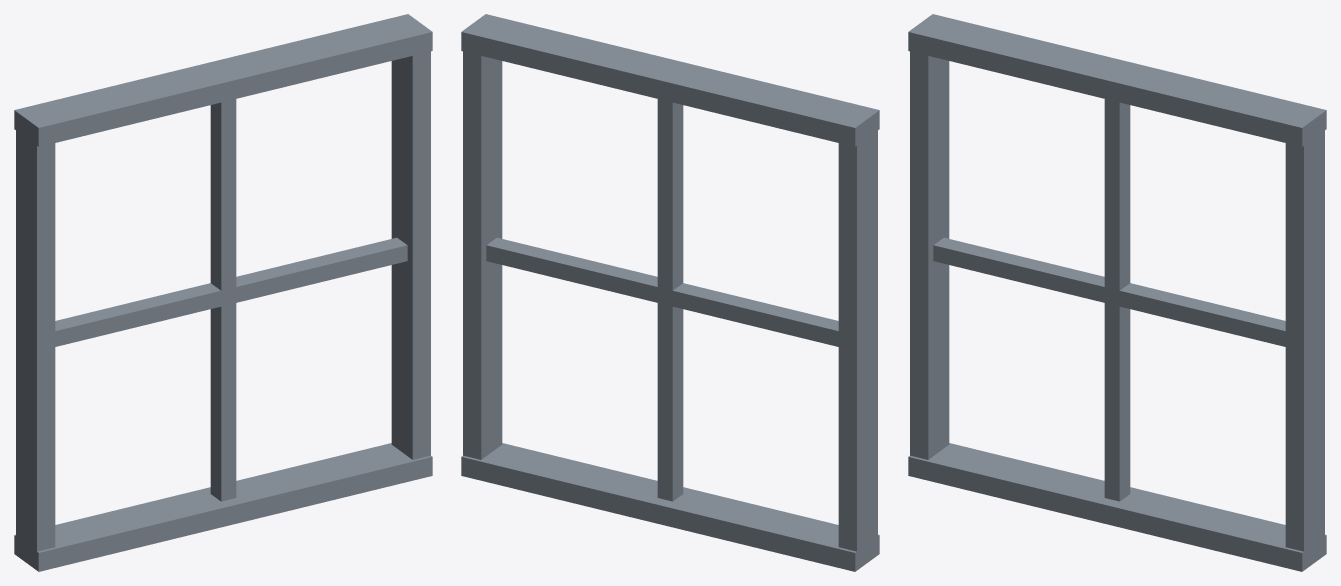
Rendered from window.glb.
3 renders of one model, left to right at view 1: azimuth 30°, elevation 25°; view 2: azimuth 150°, elevation 25°; view 3: azimuth 330°, elevation 25°, orthographic.
Visible parts, largest first — view 1: window; view 2: window; view 3: window.
Boxes of the visible parts, x1,y1,x2,y2 form: window: (14,14,432,571); window: (461,14,879,571); window: (908,14,1326,571).
Size of the model in its own units: 1.3 by 1.4 by 0.14.
